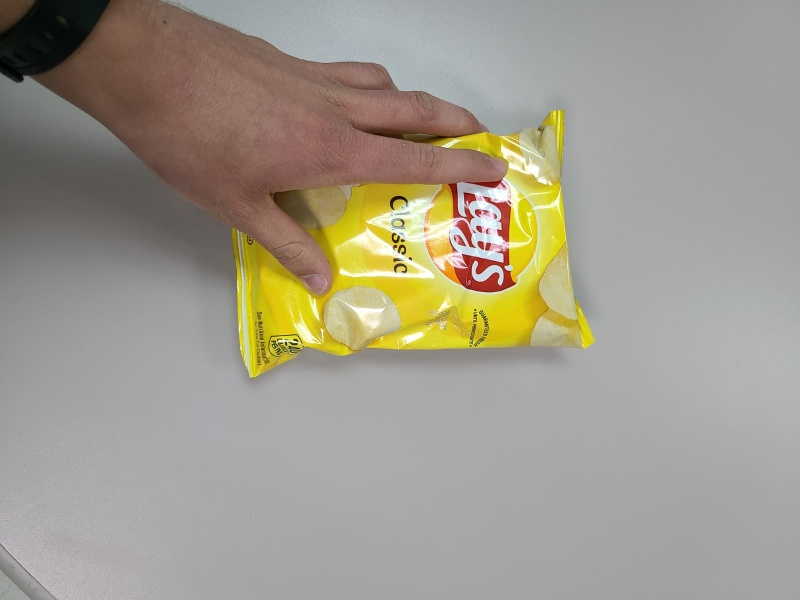lays: (238, 115, 599, 388)
